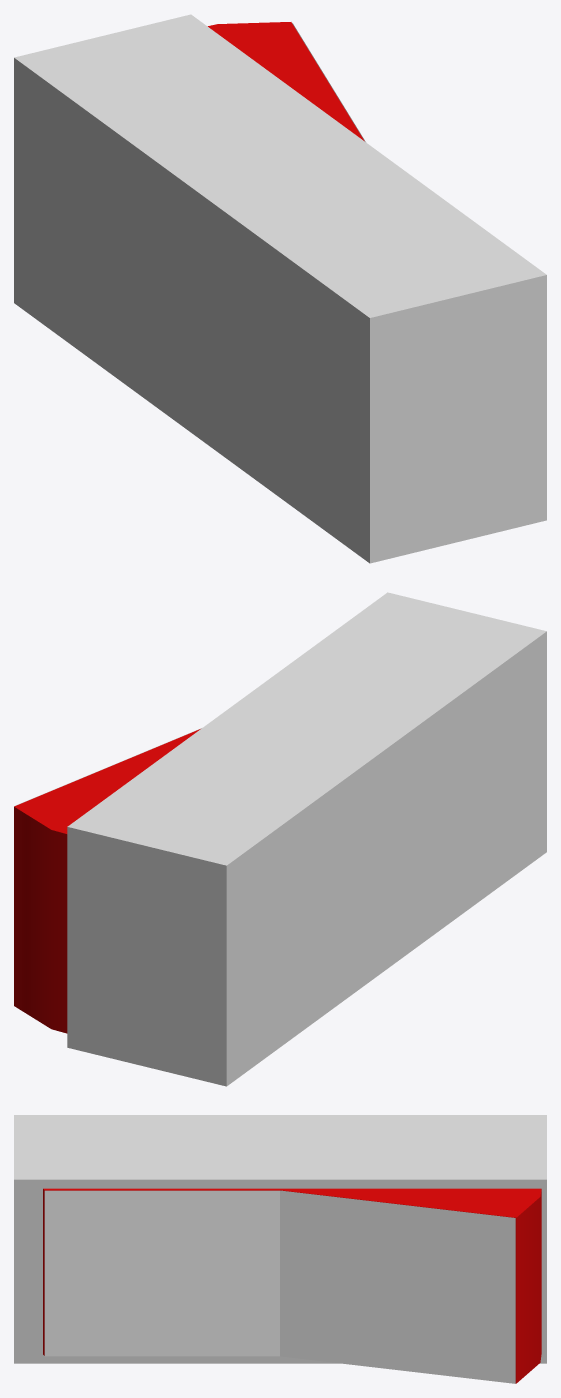
The model's file is Electrical Switch.fbx.
3 views of the same model, one above another, from view 1: azimuth 30°, elevation 25°; view 2: azimuth 150°, elevation 25°; view 3: azimuth 270°, elevation 25° (orthographic). The views are drawn at different scales.
Visible parts, largest first — view 1: Breaker Switch Base.001, Breaker Switch.001; view 2: Breaker Switch Base.001, Breaker Switch.001; view 3: Breaker Switch.001, Breaker Switch Base.001.
Boxes of the visible parts, <box> form: Breaker Switch Base.001: <box>14,14,546,563</box>; Breaker Switch.001: <box>208,22,365,141</box>; Breaker Switch Base.001: <box>67,592,546,1086</box>; Breaker Switch.001: <box>14,728,201,1033</box>; Breaker Switch.001: <box>43,1188,541,1383</box>; Breaker Switch Base.001: <box>14,1115,546,1363</box>.
Bounding box in the file's own units: 17.51 × 15.96 × 41.96.
